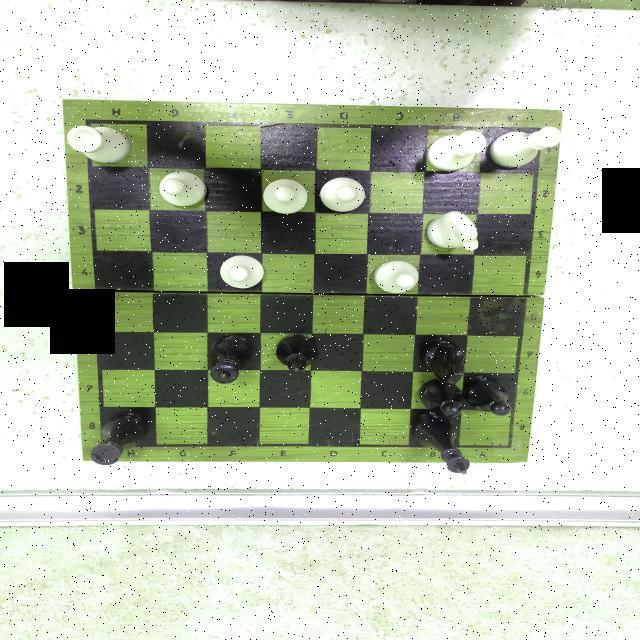chess-table-corners: (493, 438, 522, 456)
